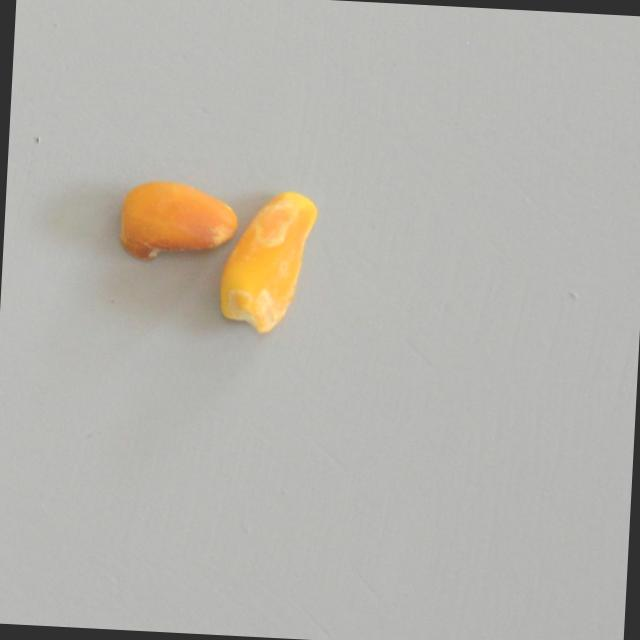dañado: (217, 185, 322, 338), (112, 171, 244, 269)
